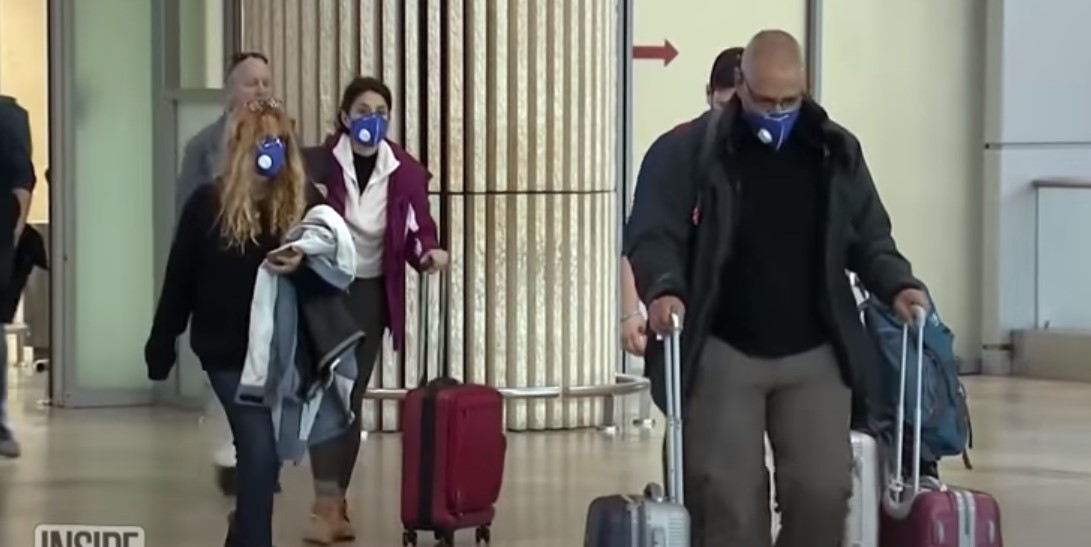face_no_mask: (225, 52, 269, 102)
face_with_mask: (733, 24, 811, 147), (237, 99, 302, 184), (335, 73, 394, 149)
